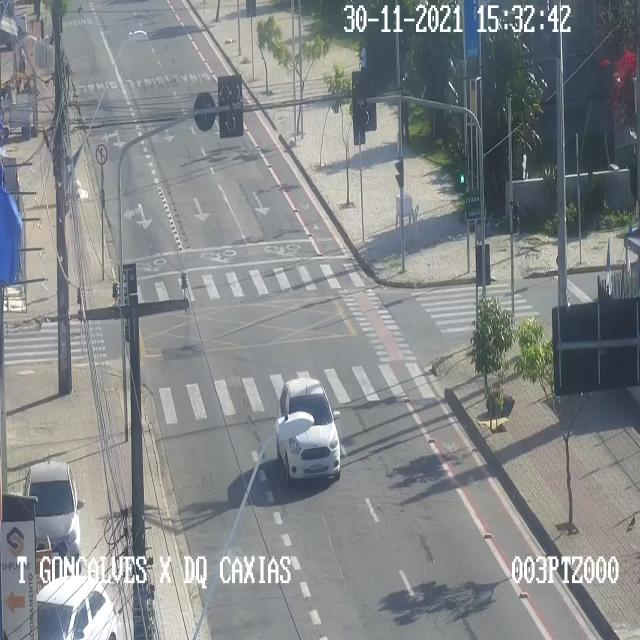Car: (274, 376, 340, 483), (24, 460, 84, 564), (37, 578, 116, 639)
